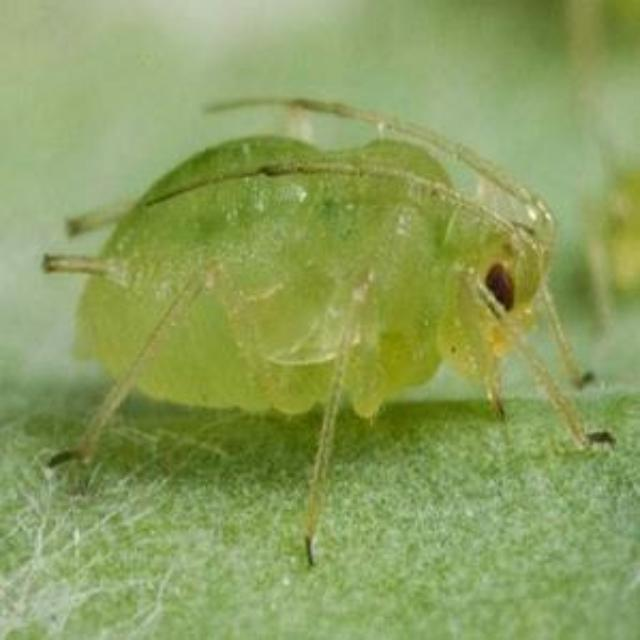Green peach aphid: (17, 51, 638, 574)
